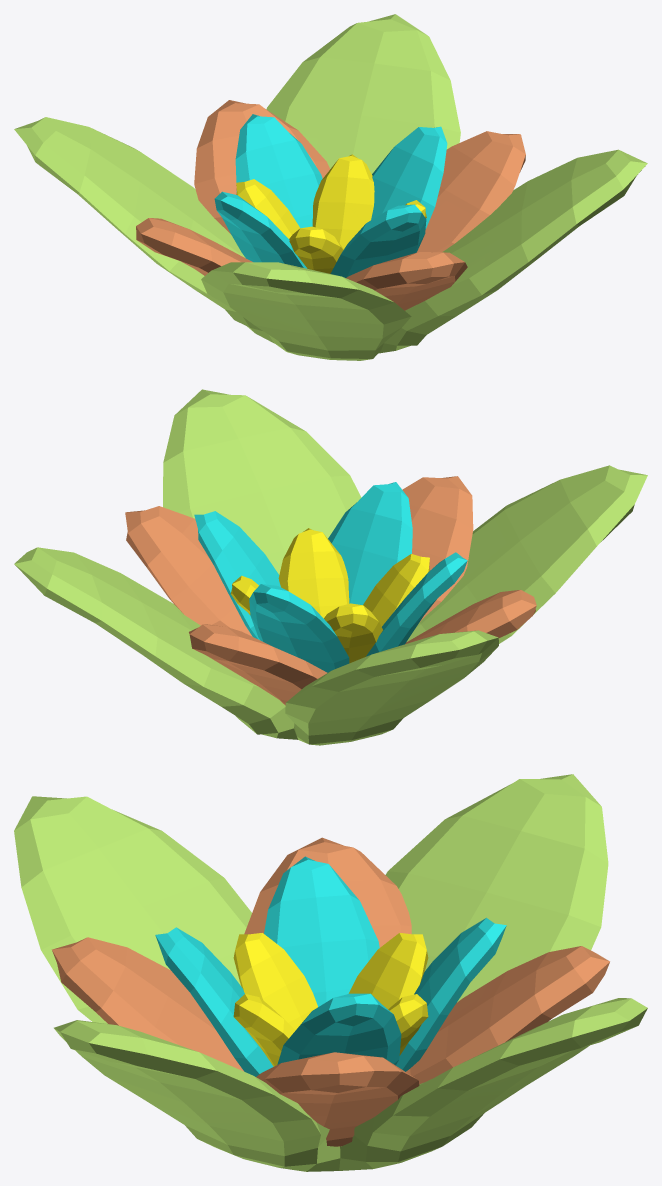
Rendered from flower2.fbx.
3 views of the same model, one above another, from view 1: azimuth 30°, elevation 25°; view 2: azimuth 150°, elevation 25°; view 3: azimuth 270°, elevation 25° (orthographic). The views are drawn at different scales.
Parts seen in each view (by area): view 1: CactusFlower_1; view 2: CactusFlower_1; view 3: CactusFlower_1.
Part boxes in pixels (bbox=[...]): CactusFlower_1: bbox=[14, 14, 647, 360]; CactusFlower_1: bbox=[14, 389, 647, 745]; CactusFlower_1: bbox=[14, 774, 647, 1171].
Bounding box in the file's own units: 88.19 × 36.13 × 86.83.
